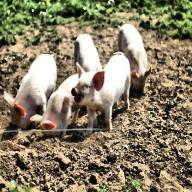boar: (3, 24, 152, 140)
